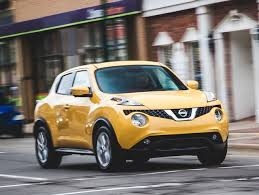Nissan: (35, 63, 215, 161)
